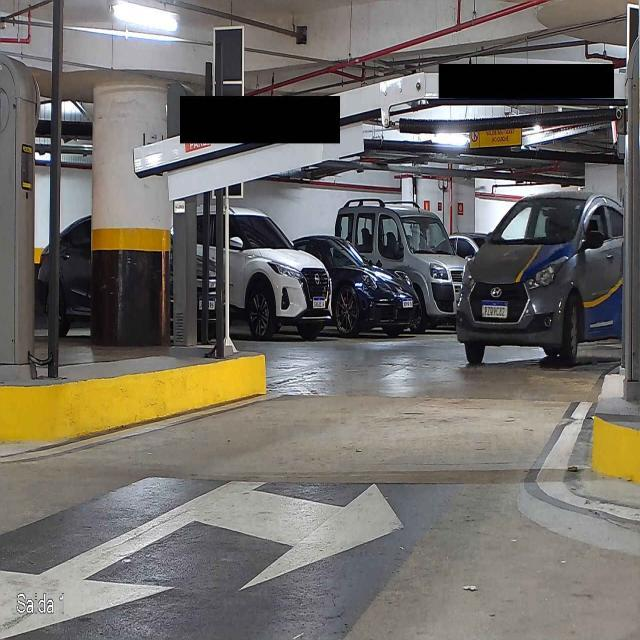mercosul_plate: (480, 299, 510, 320)
